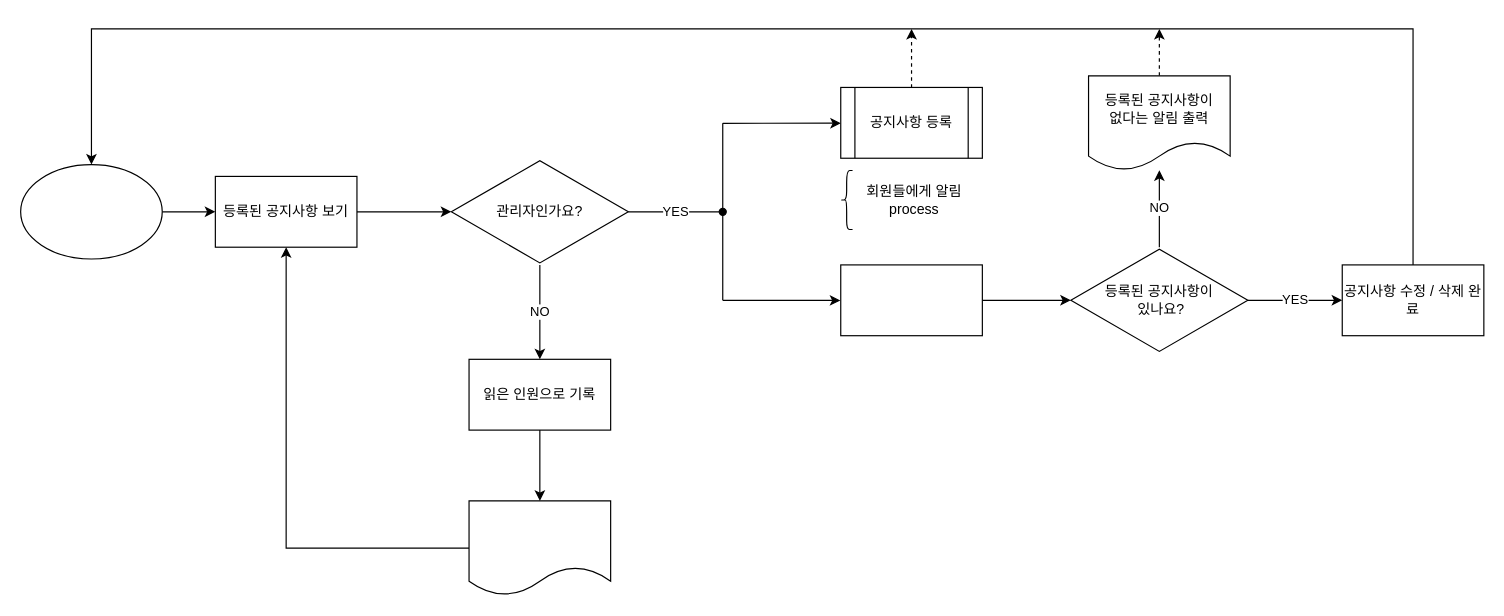
This 1504x616 diagram has some shape labels left out. Here are the shapes that lost their labels. From the top down, the box of each, then its label:
(19, 163, 162, 259): 공지사항
(840, 264, 982, 336): 공지사항 수정 / 삭제
(468, 500, 611, 595): 읽은 인원을 보여준다
